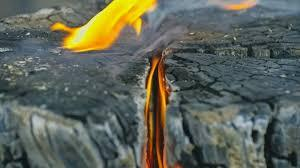fire: (125, 45, 184, 168)
